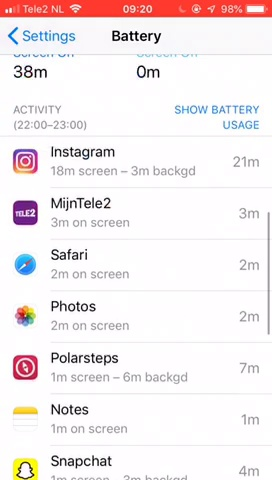activity: (11, 99, 117, 134)
app: (9, 143, 265, 180), (8, 196, 264, 233), (9, 245, 265, 282), (9, 296, 265, 333), (8, 348, 264, 385), (8, 401, 264, 438)
